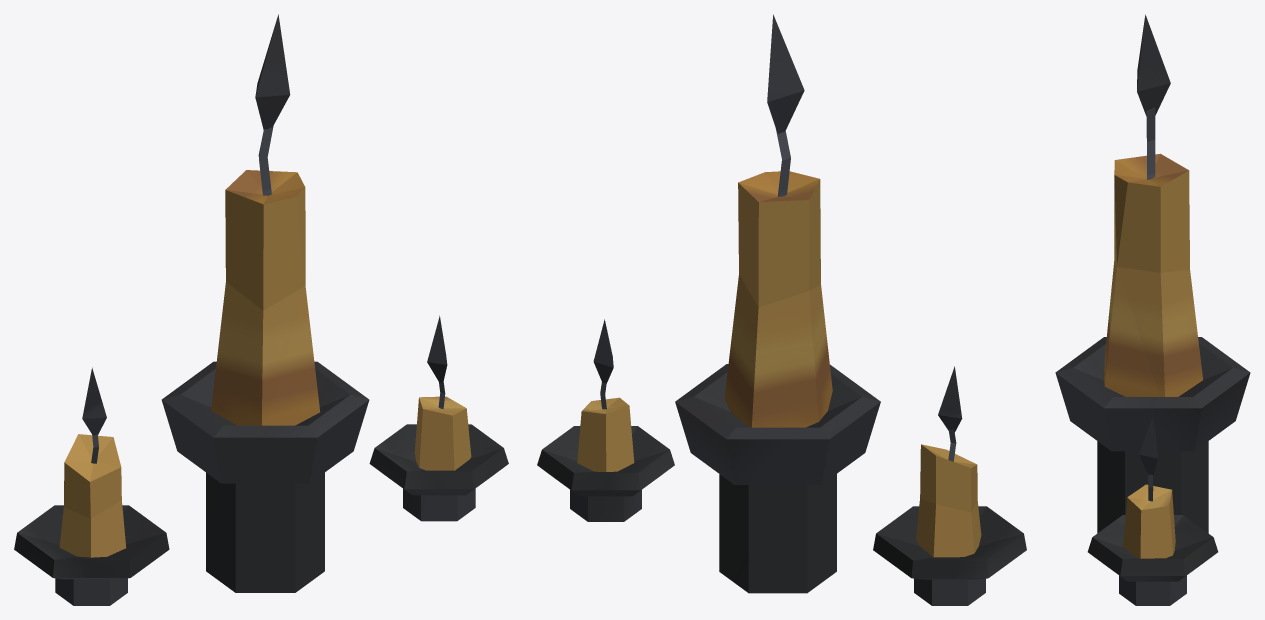
File: Chandelier_01.FBX
The picture shows the model from 3 angles, left to right: view 1: azimuth 30°, elevation 25°; view 2: azimuth 150°, elevation 25°; view 3: azimuth 270°, elevation 25°; orthographic projection. The views are drawn at different scales.
Parts seen in each view (by area): view 1: Chandelier_01; view 2: Chandelier_01; view 3: Chandelier_01.
Part boxes in pixels (x1,y1,x2,y2): Chandelier_01: [14, 14, 508, 605]; Chandelier_01: [537, 14, 1026, 605]; Chandelier_01: [1055, 14, 1250, 605].
Bounding box in the file's own units: 22.77 × 26.52 × 8.96.
